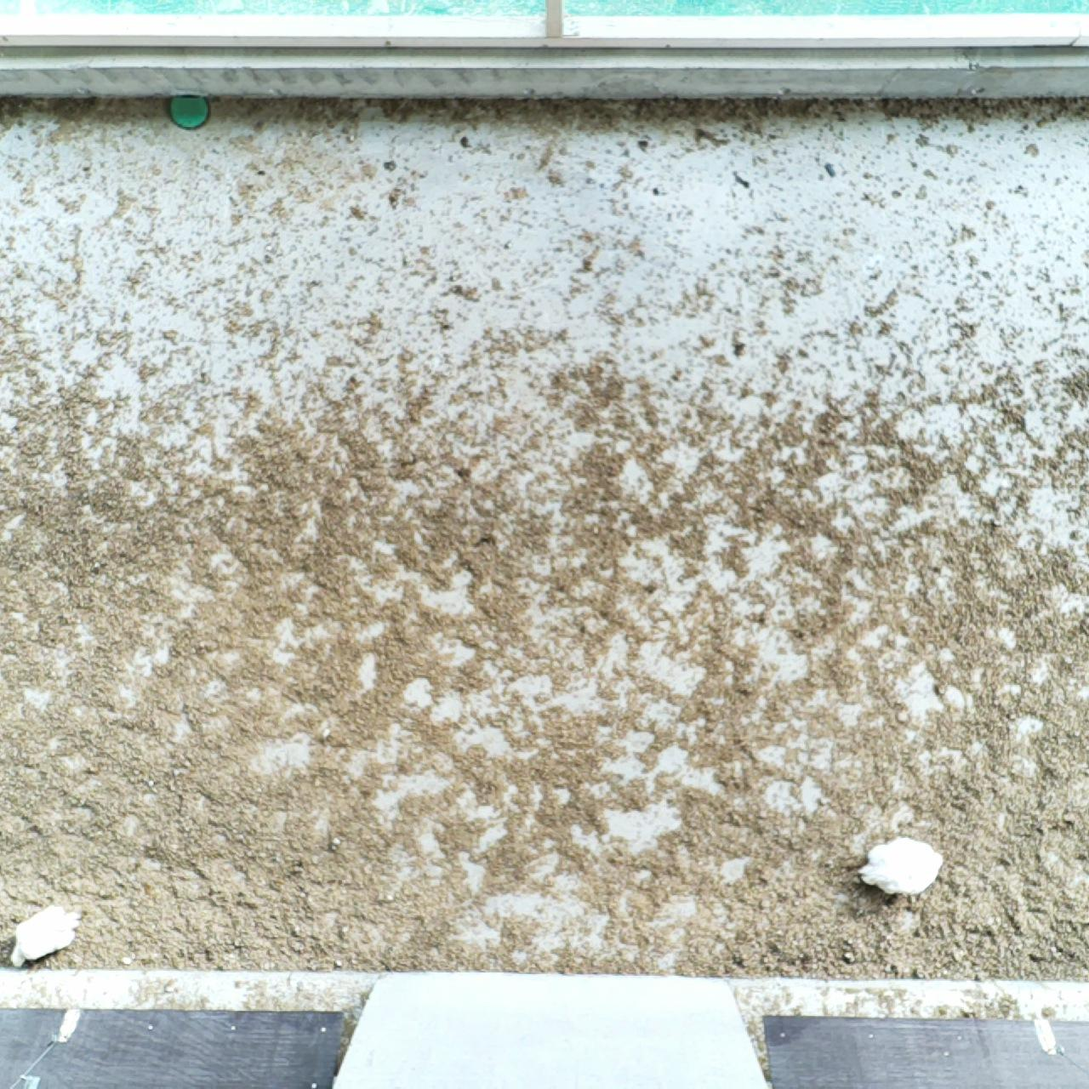chicken: (852, 834, 955, 899), (9, 897, 87, 966)
